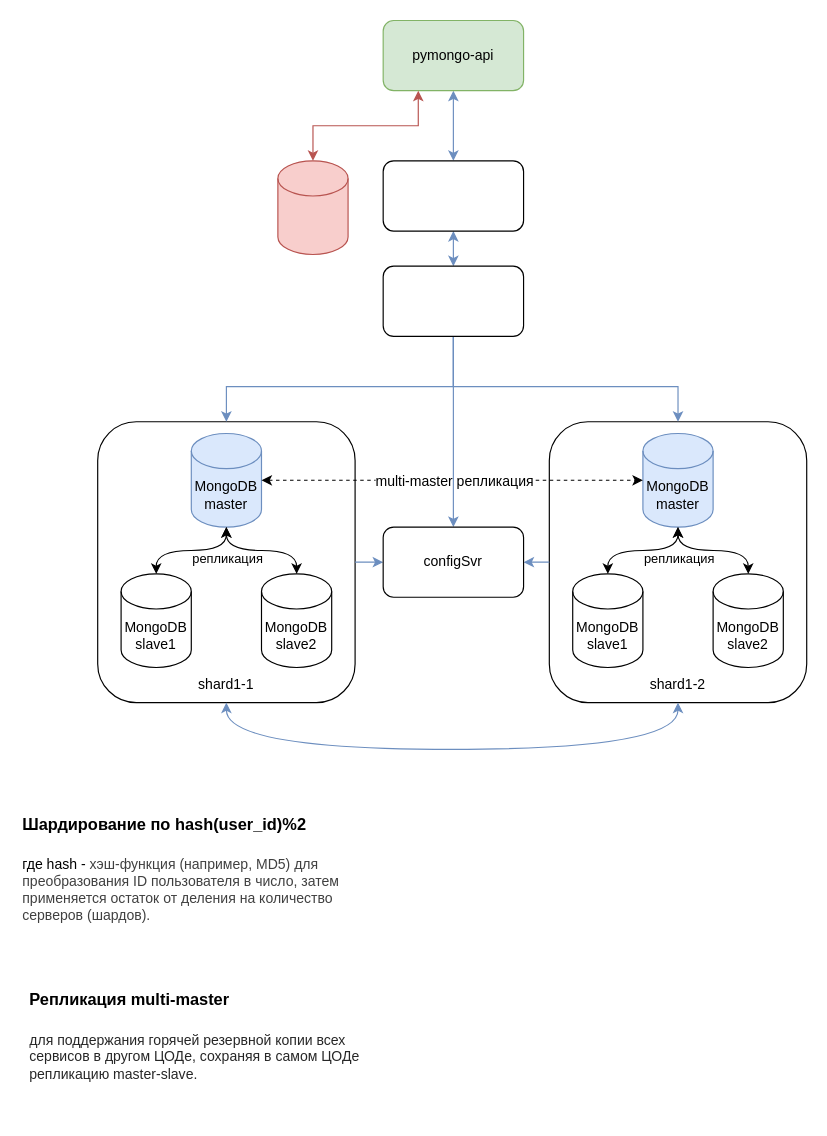
This 827x1136 diagram has some shape labels left out. Each missing label, with the centre of its shape:
"driver" goes at pixel 453 195.
"Redis" goes at pixel 312 207.
"router" goes at pixel 453 300.
